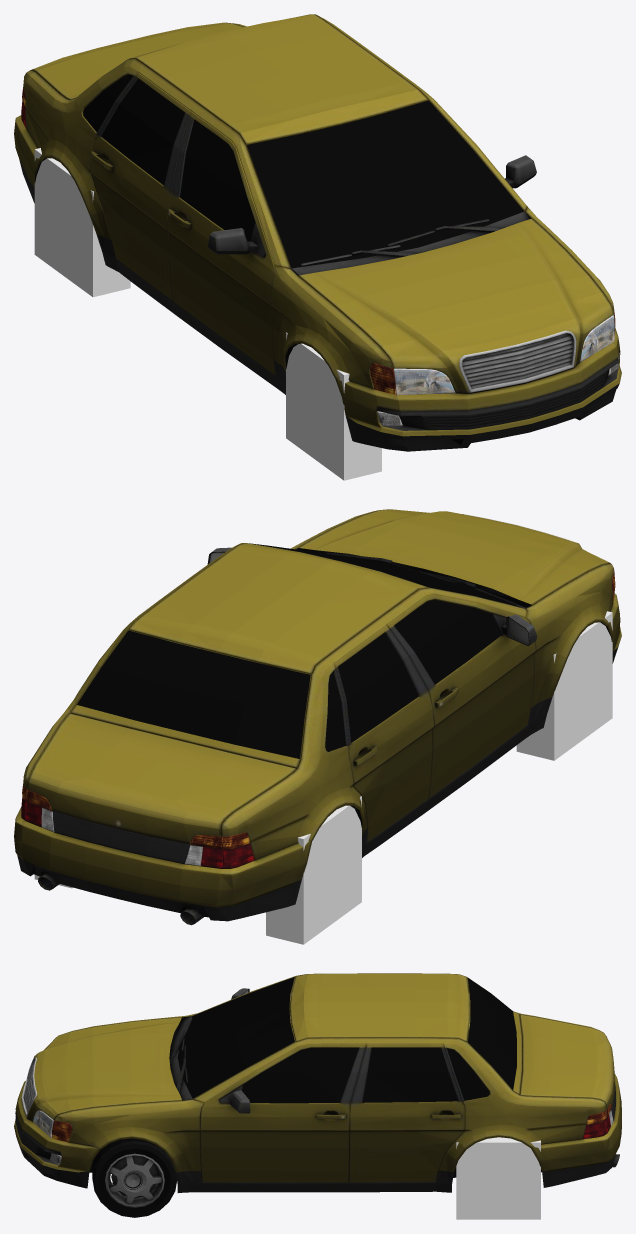
The model's file is sedan.glb.
3 renders of one model, top to bottom at view 1: azimuth 30°, elevation 25°; view 2: azimuth 150°, elevation 25°; view 3: azimuth 270°, elevation 25°, orthographic. The views are drawn at different scales.
Visible parts, largest first — view 1: body, wheelFrontRight, wheelBackRight; view 2: body, wheelBackRight, wheelFrontRight; view 3: body, wheelBackLeft, wheelFrontLeft.
Part boxes in pixels (bbox=[...]): body: bbox=[14, 14, 621, 451]; wheelFrontRight: bbox=[286, 332, 381, 480]; wheelBackRight: bbox=[34, 148, 130, 297]; body: bbox=[14, 509, 621, 925]; wheelBackRight: bbox=[266, 796, 361, 944]; wheelFrontRight: bbox=[516, 611, 612, 760]; body: bbox=[14, 973, 621, 1192]; wheelBackLeft: bbox=[456, 1137, 540, 1219]; wheelFrontLeft: bbox=[92, 1138, 176, 1217].
Bounding box in the file's own units: 1.94 × 1.34 × 4.36.
5 materials, 3 textured.
